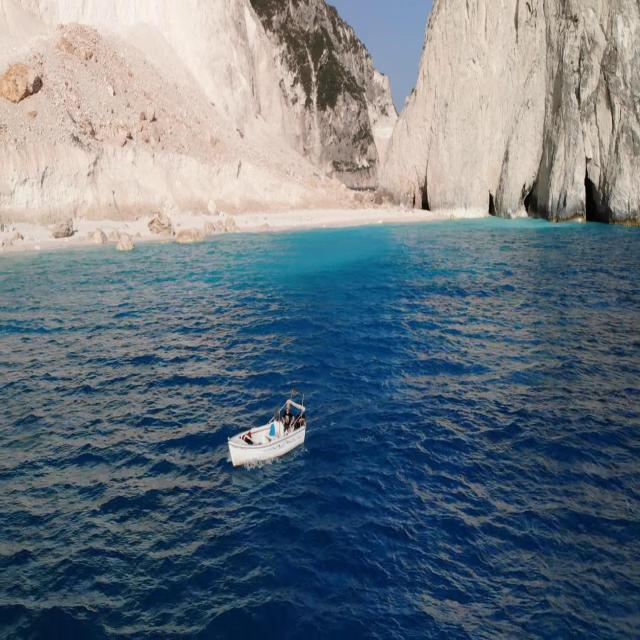boat: (240, 399, 307, 471)
